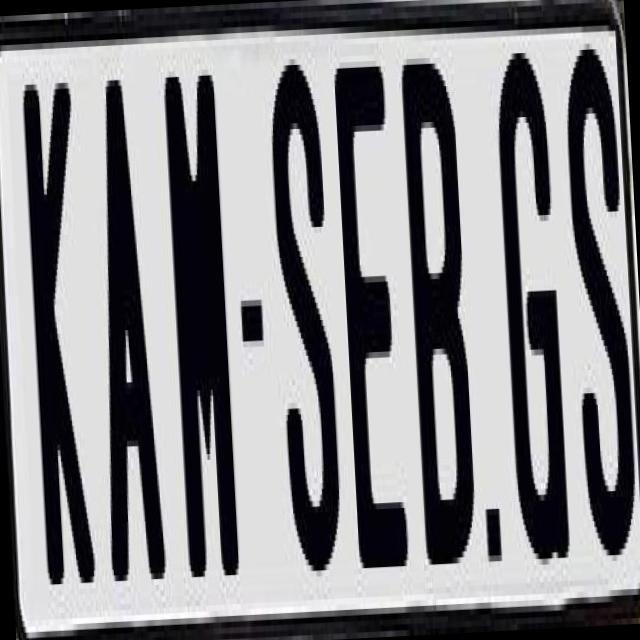A: (85, 72, 176, 611)
B: (400, 51, 486, 559)
E: (331, 60, 410, 592)
G: (489, 34, 572, 584)
K: (19, 82, 92, 586)
M: (158, 63, 238, 590)
S: (264, 64, 344, 578), (564, 43, 632, 568)
